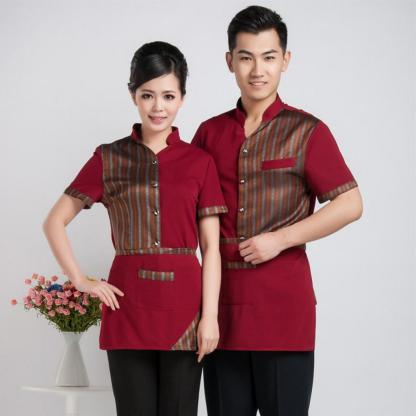face: (233, 24, 282, 100), (137, 66, 184, 133)
